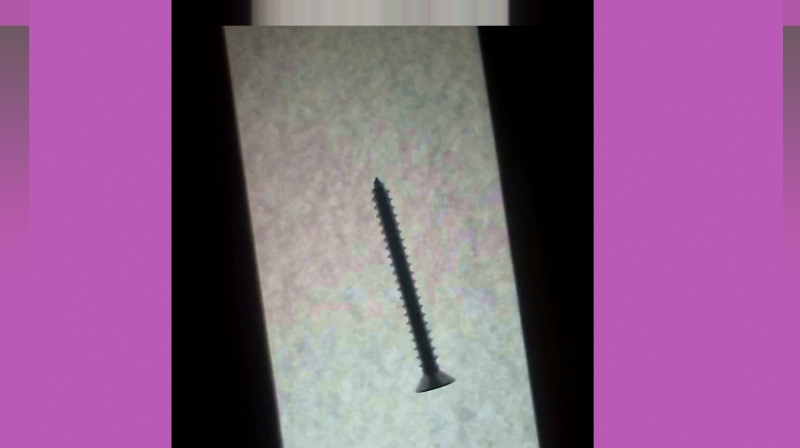S002: (369, 170, 459, 395)
